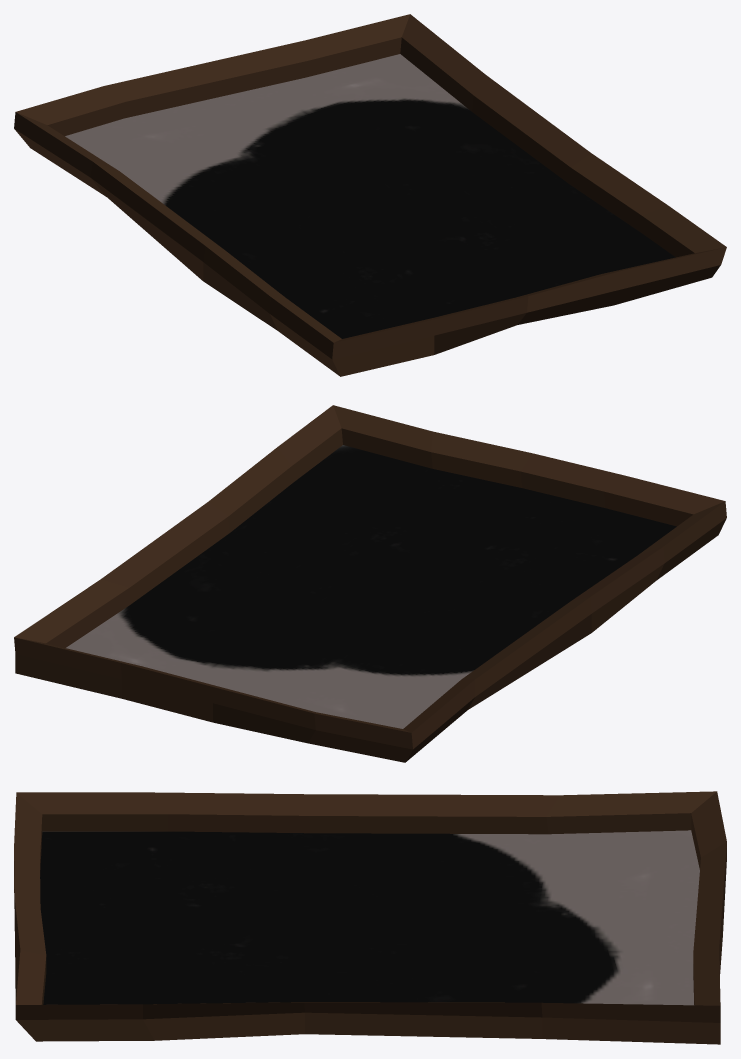
File: EckFrame2.fbx
The picture shows the model from 3 angles, top to bottom: view 1: azimuth 30°, elevation 25°; view 2: azimuth 150°, elevation 25°; view 3: azimuth 270°, elevation 25°; orthographic projection. The views are drawn at different scales.
Parts seen in each view (by area): view 1: EckFrame2; view 2: EckFrame2; view 3: EckFrame2.
Boxes of the visible parts, x1,y1,x2,y2 form: EckFrame2: (14,14,726,376); EckFrame2: (14,405,726,762); EckFrame2: (14,791,726,1044).
Bounding box in the file's own units: 214 × 18.39 × 300.
